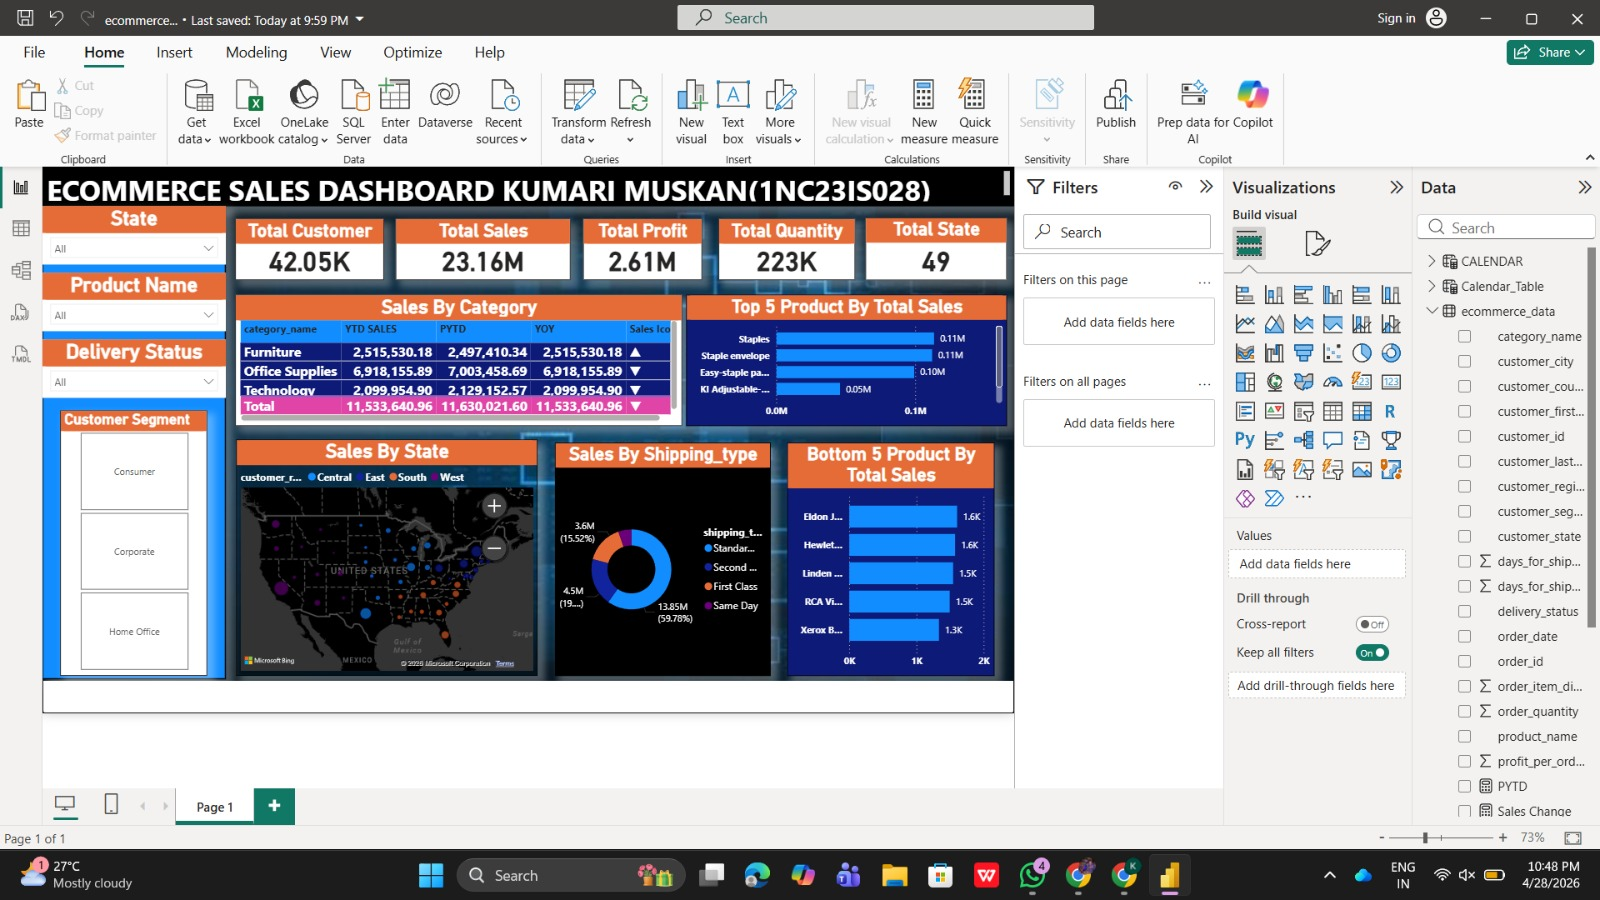

Layout of this report page (visuals, bound fields, positions):
{"tool":"powerbi","page":{"name":"Page 1","canvas":[1280,720],"ordinal":0},"visuals":[{"type":"textbox","box":[0,0,1280.3,52.1],"z":0},{"type":"shape","box":[0,52.1,241.5,623],"z":1000},{"type":"card","title":"Total Customer","fields":{"Values":["Count(ecommerce_data.customer_id)"]},"box":[253.4,67.6,200.3,90.5],"z":2000},{"type":"card","title":"Total Sales","fields":{"Values":["Sum(ecommerce_data.sales_per_order)"]},"box":[465.2,68.6,230.5,81],"z":3000},{"type":"card","title":"Total Profit","fields":{"Values":["Sum(ecommerce_data.profit_per_order)"]},"box":[712.2,68.6,156.4,81],"z":4000},{"type":"card","title":"Total Quantity","fields":{"Values":["Sum(ecommerce_data.order_quantity)"]},"box":[885.1,67.2,192.1,90.6],"z":5000},{"type":"card","title":"Total State","fields":{"Values":["Count(ecommerce_data.customer_state)"]},"box":[1084.1,67.2,186.6,82.3],"z":6000},{"type":"tableEx","title":"Sales By Category","fields":{"Values":["ecommerce_data.category_name","ecommerce_data.YTD SALES","ecommerce_data.PYTD","ecommerce_data.YOY","ecommerce_data.Sales Icon"]},"box":[253.9,168.8,588.7,172.9],"z":7000},{"type":"barChart","title":"Top 5 Product By Total Sales","fields":{"Y":["Sum(ecommerce_data.sales_per_order)"],"Category":["ecommerce_data.product_name"]},"box":[848,168.8,422.6,172.9],"z":8000},{"type":"donutChart","title":" Sales By Shipping_type","fields":{"Y":["Sum(ecommerce_data.sales_per_order)"],"Category":["ecommerce_data.shipping_type"]},"box":[675.1,363.6,284,307.4],"z":9000},{"type":"barChart","title":"Bottom 5 Product By Total Sales","fields":{"Y":["Sum(ecommerce_data.sales_per_order)"],"Category":["ecommerce_data.product_name"]},"box":[981.1,363.6,273.1,307.4],"z":10000},{"type":"slicer","title":"State","fields":{"Values":["us_state_long_lat_codes (1).state"]},"box":[0,52.1,241.5,76.8],"z":11000},{"type":"slicer","title":"Product Name","fields":{"Values":["us_state_long_lat_codes (1).state","ecommerce_data.product_name"]},"box":[0,140,241.5,76.8],"z":12000},{"type":"slicer","title":"Delivery Status","fields":{"Values":["us_state_long_lat_codes (1).state","ecommerce_data.delivery_status"]},"box":[0,227.8,241.5,76.8],"z":13000},{"type":"slicer","title":"Customer Segment","fields":{"Values":["ecommerce_data.customer_segment"]},"box":[22.9,326.9,187,343.8],"z":14000},{"type":"map","title":"Sales By State","fields":{"X":["us_state_long_lat_codes (1).longitude"],"Y":["us_state_long_lat_codes (1).latitude"],"Series":["ecommerce_data.customer_region"],"Size":["Sum(ecommerce_data.sales_per_order)"]},"box":[265.4,359.5,399.3,311.3],"z":15000}]}

Visuals, with their boxes on the page's 1280x720 design canvas (x1, y1, x2, y2). These are canvas units, not pixel positions in the 1600x900 screenshot, which may show the page scaled, cropped or inside an application window:
textbox: left=0, top=0, right=1280, bottom=52
shape: left=0, top=52, right=242, bottom=675
"Total Customer" card: left=253, top=68, right=454, bottom=158
"Total Sales" card: left=465, top=69, right=696, bottom=150
"Total Profit" card: left=712, top=69, right=869, bottom=150
"Total Quantity" card: left=885, top=67, right=1077, bottom=158
"Total State" card: left=1084, top=67, right=1271, bottom=150
"Sales By Category" tableEx: left=254, top=169, right=843, bottom=342
"Top 5 Product By Total Sales" barChart: left=848, top=169, right=1271, bottom=342
" Sales By Shipping_type" donutChart: left=675, top=364, right=959, bottom=671
"Bottom 5 Product By Total Sales" barChart: left=981, top=364, right=1254, bottom=671
"State" slicer: left=0, top=52, right=242, bottom=129
"Product Name" slicer: left=0, top=140, right=242, bottom=217
"Delivery Status" slicer: left=0, top=228, right=242, bottom=305
"Customer Segment" slicer: left=23, top=327, right=210, bottom=671
"Sales By State" map: left=265, top=360, right=665, bottom=671
